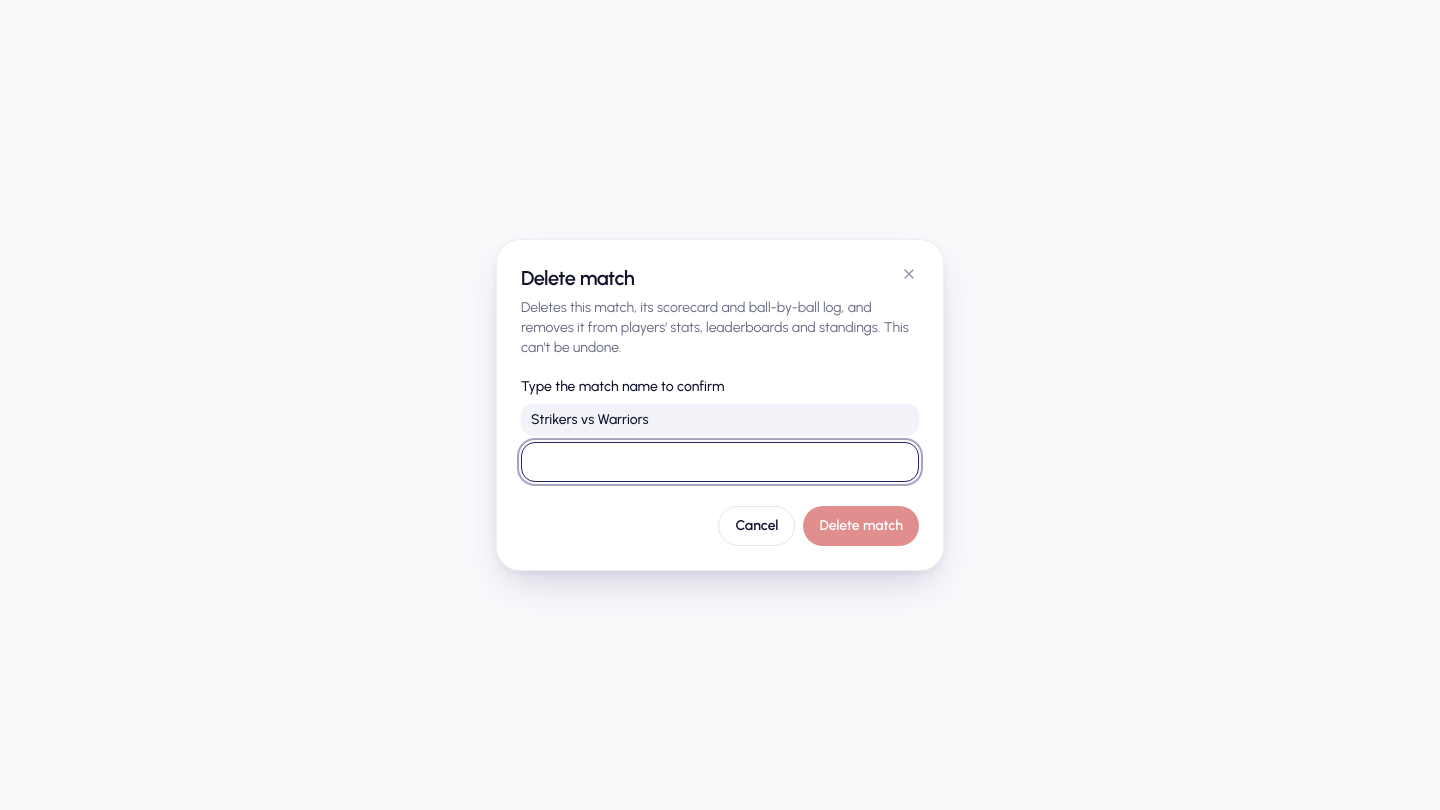
it: DeleteMatchDialog › shows the server's error and stays open
Type "Strikers vs Warriors" into the field labelled "Type the match name to confirm".
click(720, 462); type("Strikers vs Warriors")  # box [521,442,919,482]
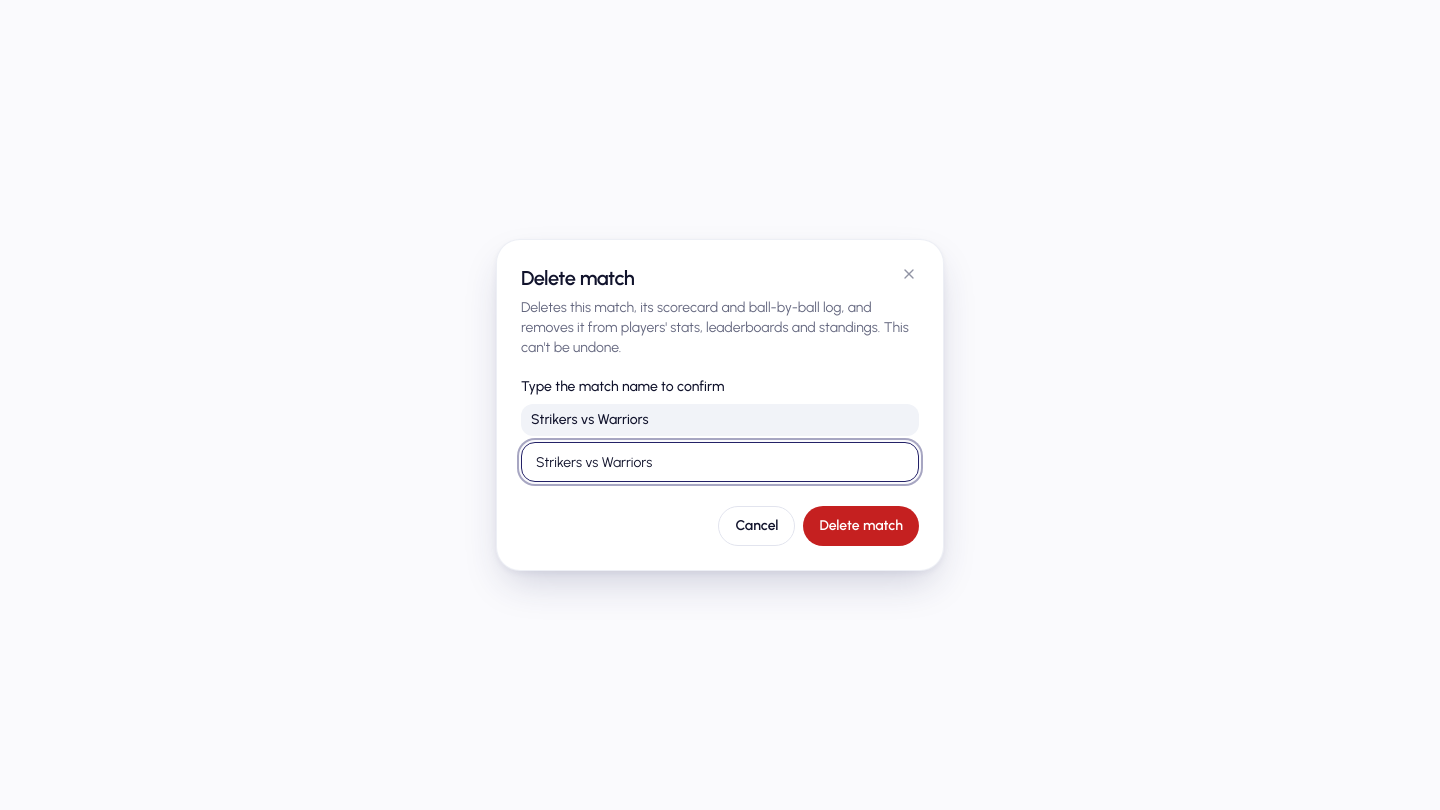
Click the button "Delete match".
click(861, 526)  # box [803,506,919,546]
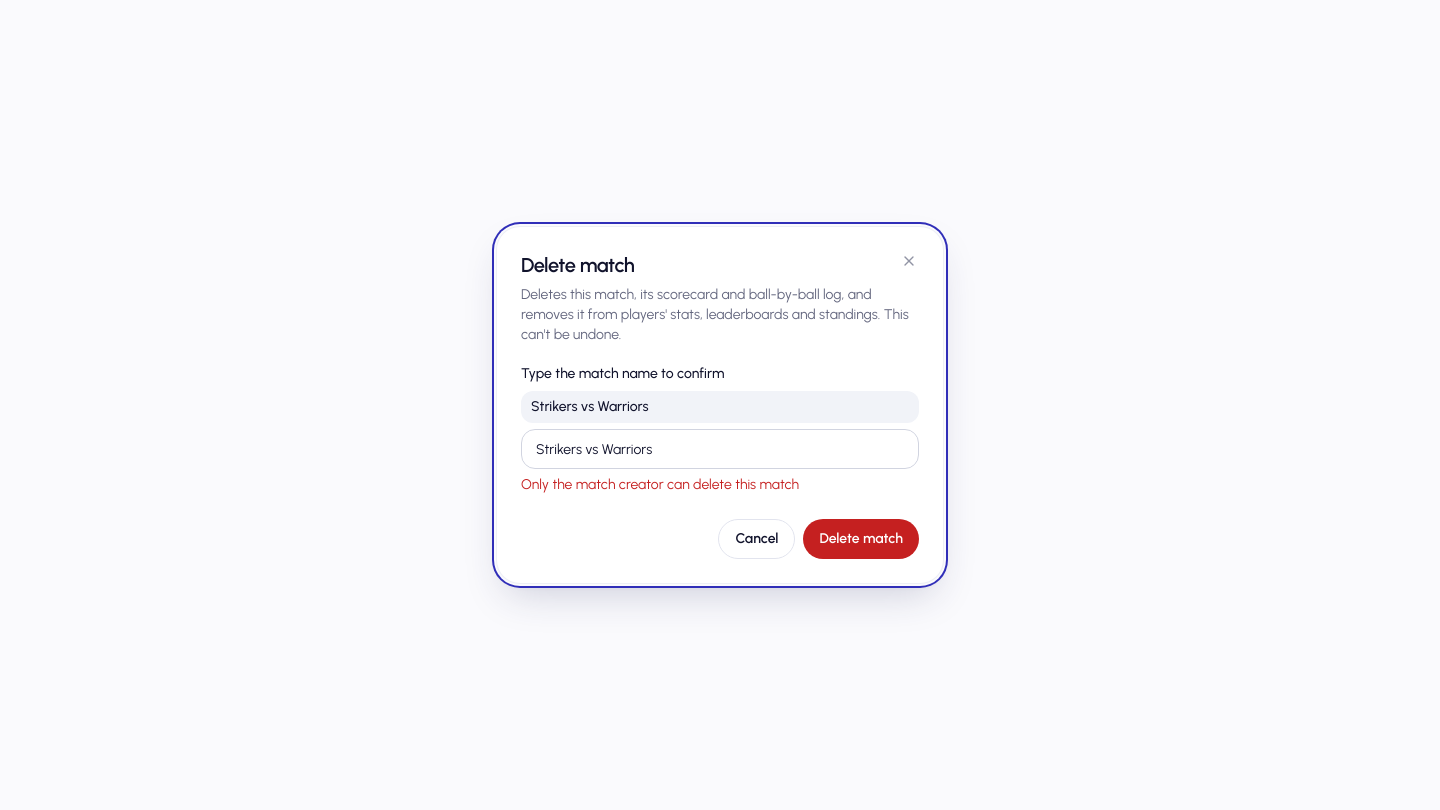
Now the message reads "Only the match creator can delete this match", box [521,476,799,493]
